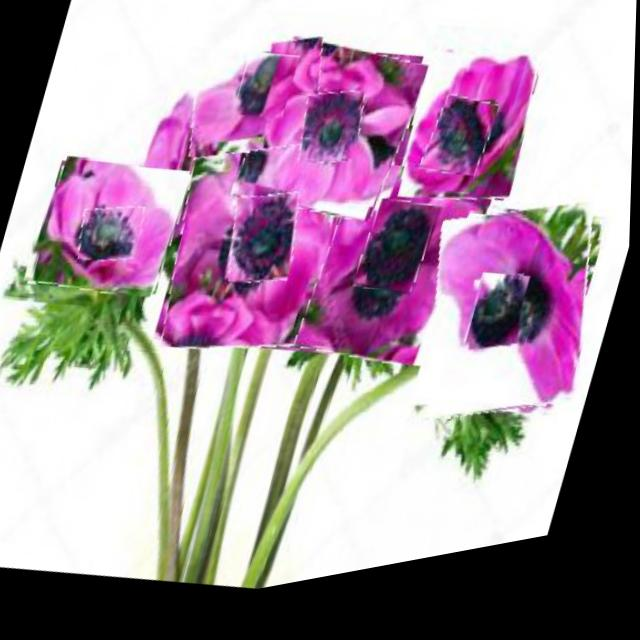Flower: (400, 192, 623, 470), (147, 116, 369, 393), (295, 152, 499, 407), (231, 28, 432, 258), (25, 141, 196, 324), (391, 48, 550, 241), (174, 23, 337, 193), (220, 190, 310, 306), (354, 204, 442, 318), (422, 104, 501, 203), (293, 92, 373, 187), (464, 284, 534, 375), (73, 197, 149, 278), (232, 53, 302, 138)
